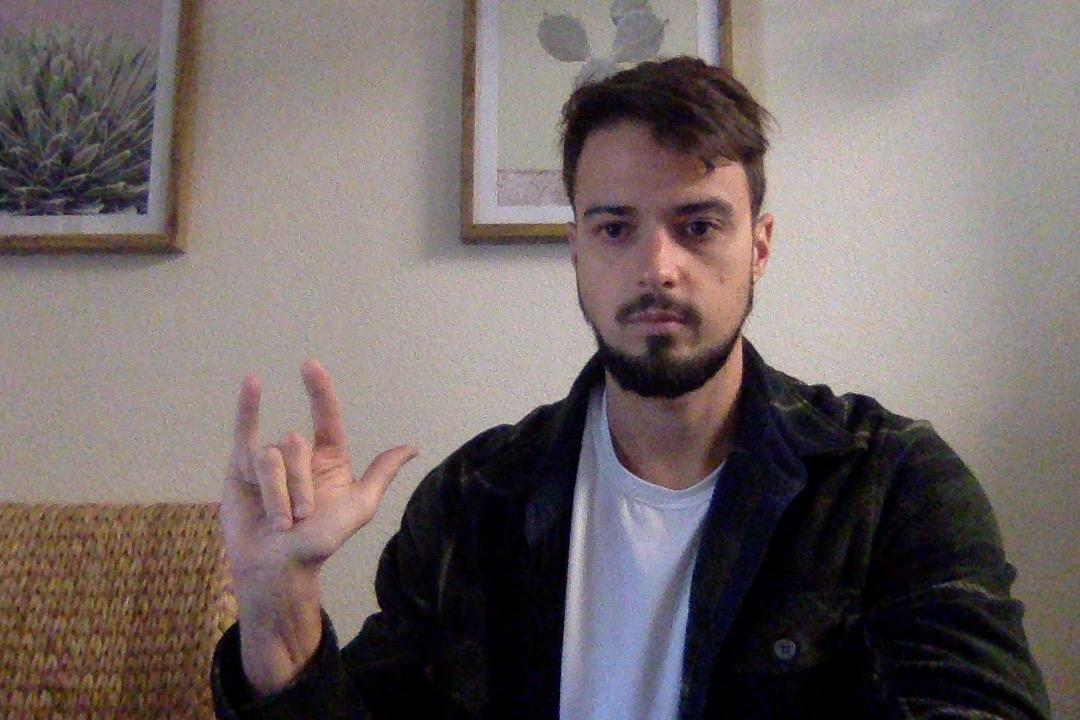Love-You: (214, 350, 417, 598)
